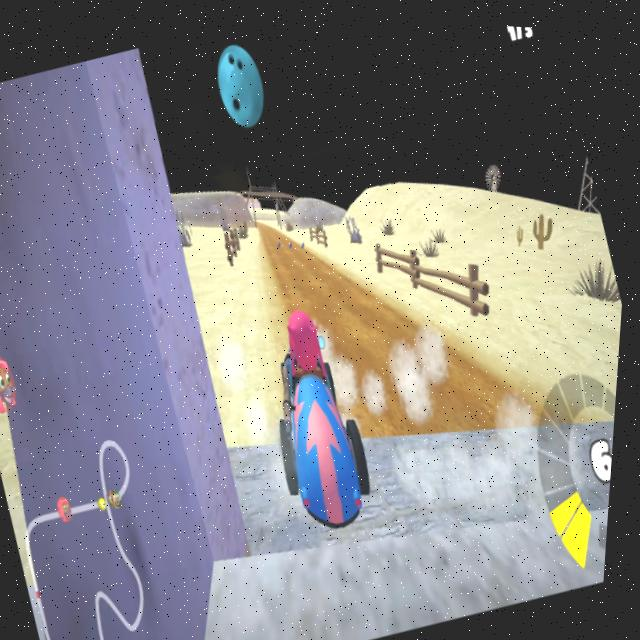nitro: (289, 232, 301, 248), (301, 233, 312, 247), (276, 232, 285, 245)
off_track: (330, 137, 583, 270), (175, 190, 286, 332)
player_kart: (237, 299, 397, 532)
track: (267, 239, 350, 315), (258, 215, 279, 232)
